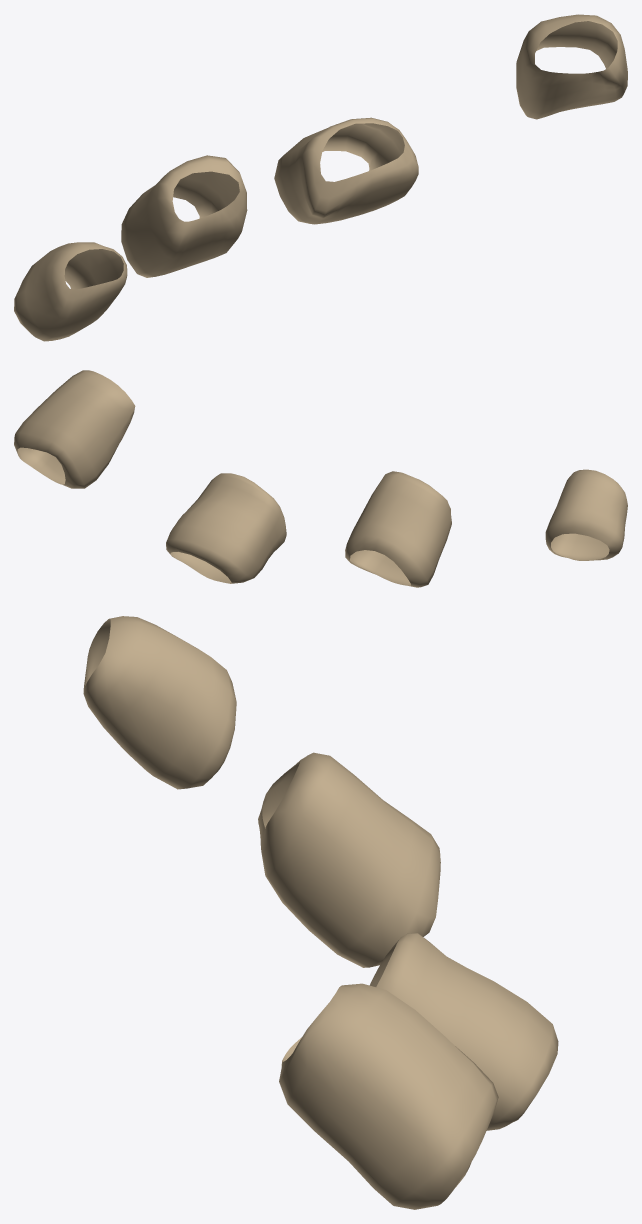
3 renders of one model, top to bottom at view 1: azimuth 30°, elevation 25°; view 2: azimuth 150°, elevation 25°; view 3: azimuth 270°, elevation 25°, orthographic. The views are drawn at different scales.
Parts seen in each view (by area): view 1: 左侧手近侧指间关节囊; view 2: 左侧手近侧指间关节囊; view 3: 左侧手近侧指间关节囊.
Part boxes in pixels (<box>): 左侧手近侧指间关节囊: <box>14,14,627,341</box>; 左侧手近侧指间关节囊: <box>14,370,627,587</box>; 左侧手近侧指间关节囊: <box>83,616,558,1209</box>.
Size of the model in its own units: 0.1307 by 0.0318 by 0.0498.
